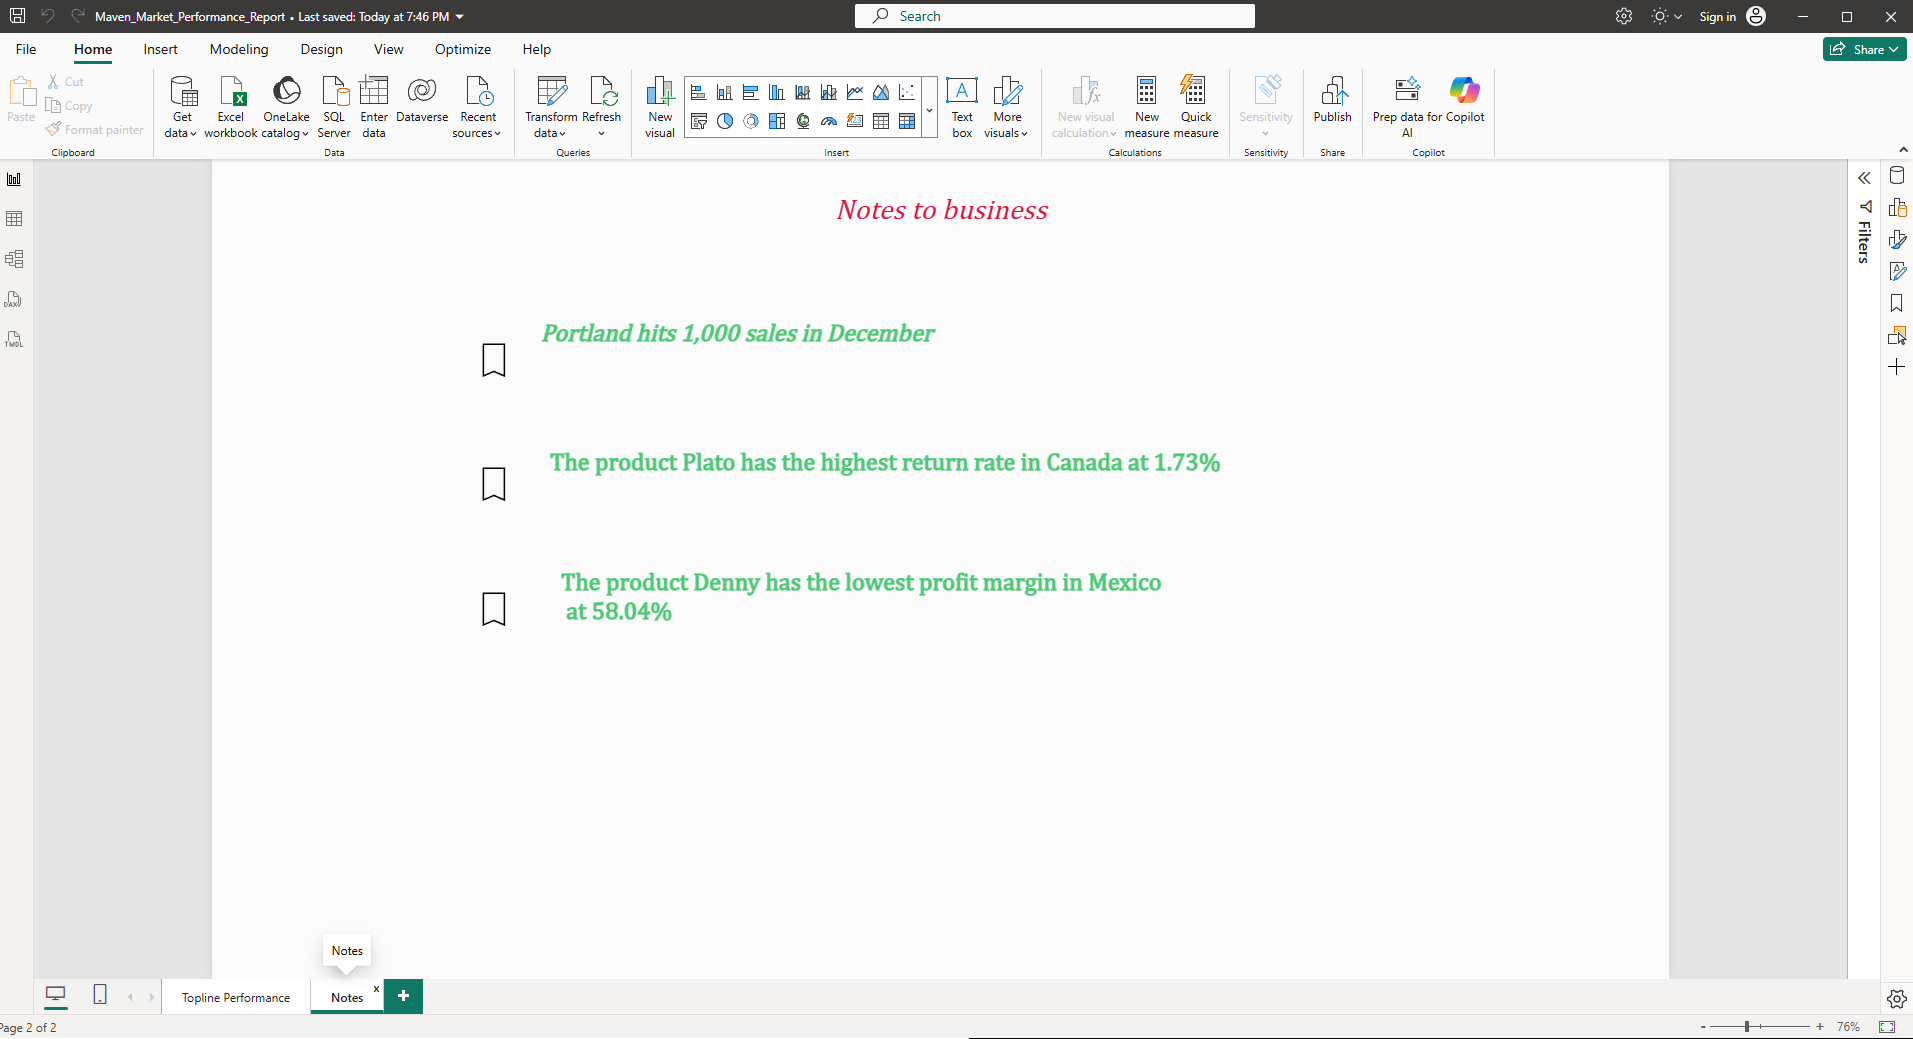

What the dashboard file says about the page in this screenshot:
{"tool":"powerbi","page":{"name":"Notes","canvas":[1920,1080],"ordinal":1},"visuals":[{"type":"textbox","box":[433.3,212,981.2,106.7],"z":0},{"type":"actionButton","box":[321.4,212,100.1,106.7],"z":1000},{"type":"textbox","box":[445.2,382,935.1,94.8],"z":2000},{"type":"actionButton","box":[321.4,376,100.1,106.7],"z":3000},{"type":"textbox","box":[459.7,540,954.9,106.7],"z":4000},{"type":"actionButton","box":[321.4,540,100.1,106.7],"z":5000},{"type":"textbox","box":[557.1,47.4,806,89.6],"z":6000}]}

Visuals, with their boxes on the page's 1920x1080 design canvas (x1, y1, x2, y2). These are canvas units, not pixel positions in the 1913x1039 screenshot, which may show the page scaled, cropped or inside an application window:
textbox: [433,212,1414,319]
actionButton: [321,212,422,319]
textbox: [445,382,1380,477]
actionButton: [321,376,422,483]
textbox: [460,540,1415,647]
actionButton: [321,540,422,647]
textbox: [557,47,1363,137]
